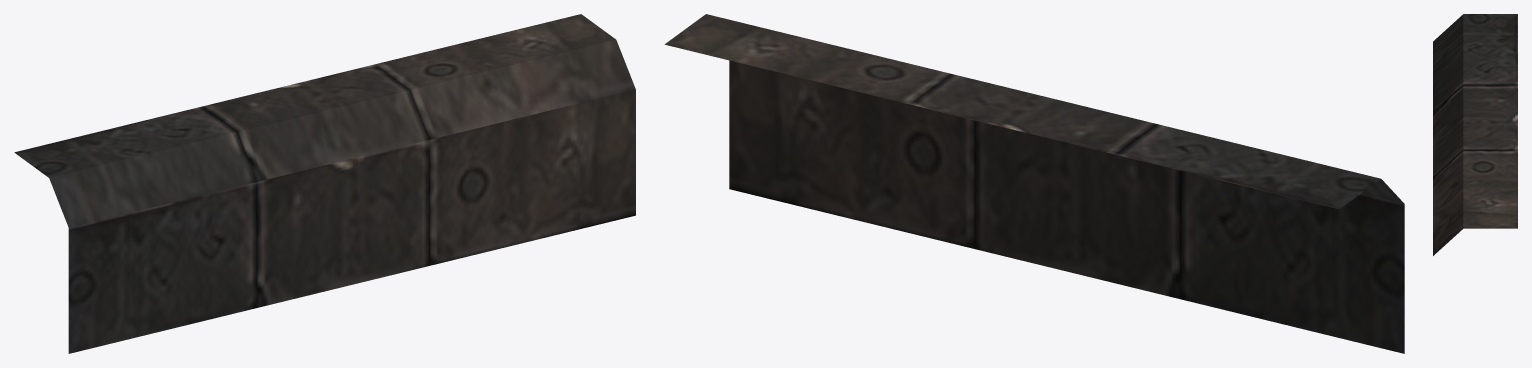
The model's file is foundation_concrete_1.fbx.
3 views of the same model, side by side, from view 1: azimuth 30°, elevation 25°; view 2: azimuth 150°, elevation 25°; view 3: azimuth 270°, elevation 25° (orthographic). The views are drawn at different scales.
Visible parts, largest first — view 1: foundation_concrete_1; view 2: foundation_concrete_1; view 3: foundation_concrete_1.
Part boxes in pixels (x1,y1,x2,y2): foundation_concrete_1: (14,14,635,353); foundation_concrete_1: (664,14,1404,353); foundation_concrete_1: (1433,14,1517,255).
Bounding box in the file's own units: 3 × 0.8165 × 0.5012.
